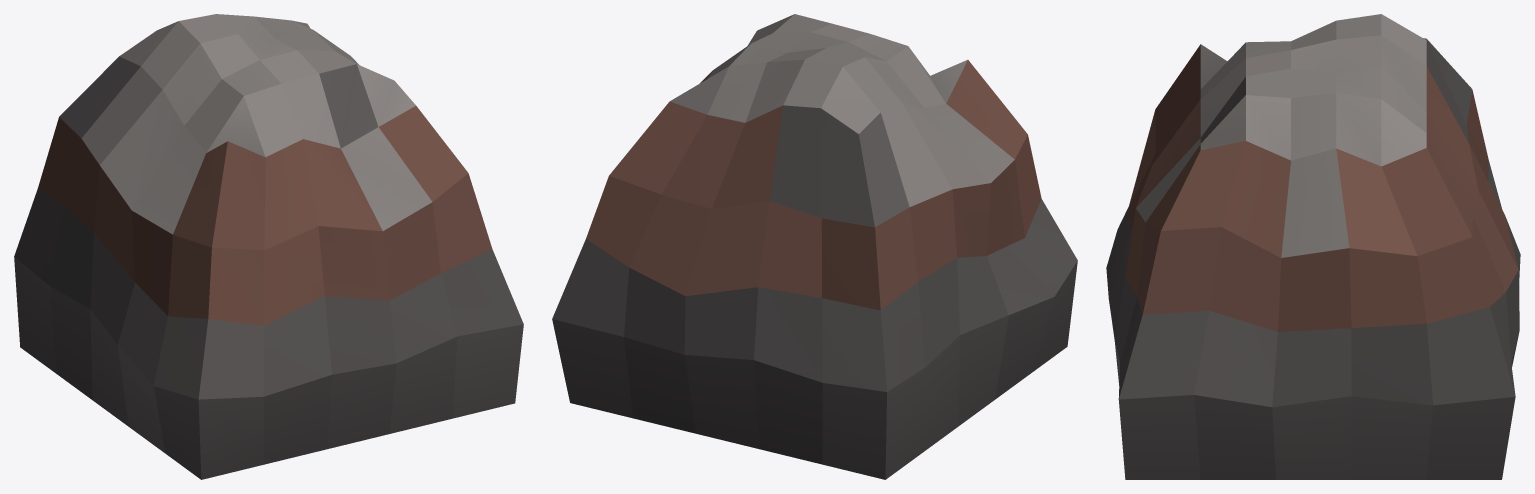
File: roca_suelta_3.glb
3 renders of one model, left to right at view 1: azimuth 30°, elevation 25°; view 2: azimuth 150°, elevation 25°; view 3: azimuth 270°, elevation 25°, orthographic. The views are drawn at different scales.
Parts seen in each view (by area): view 1: propforge-cuartos-roca_suelta; view 2: propforge-cuartos-roca_suelta; view 3: propforge-cuartos-roca_suelta.
Boxes of the visible parts, x1,y1,x2,y2 form: propforge-cuartos-roca_suelta: (14, 14, 523, 479); propforge-cuartos-roca_suelta: (552, 14, 1077, 479); propforge-cuartos-roca_suelta: (1106, 14, 1520, 479).
Bounding box in the file's own units: 0.8841 × 0.8385 × 0.88.
